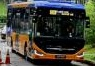bus: (49, 9, 56, 14)
